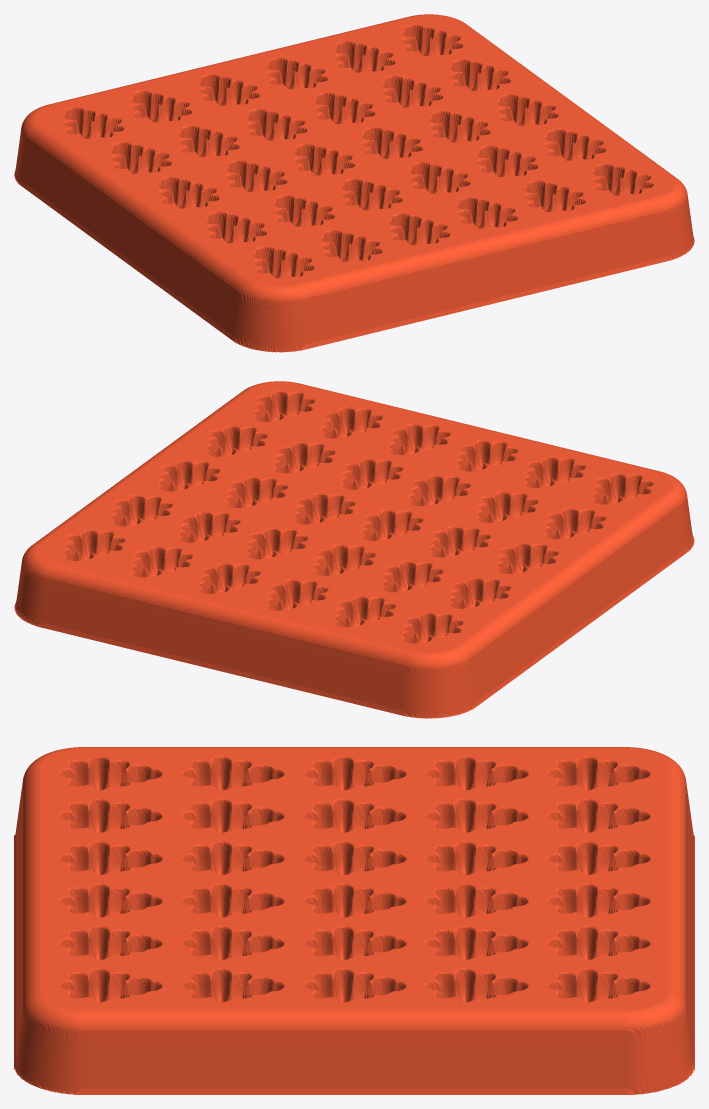
Rendered from mold.glb.
3 renders of one model, top to bottom at view 1: azimuth 30°, elevation 25°; view 2: azimuth 150°, elevation 25°; view 3: azimuth 270°, elevation 25°, orthographic. The views are drawn at different scales.
Parts seen in each view (by area): view 1: geometry_0; view 2: geometry_0; view 3: geometry_0.
Part boxes in pixels (left/top/right/bottom): geometry_0: left=14, top=14, right=694, bottom=352; geometry_0: left=14, top=381, right=694, bottom=718; geometry_0: left=14, top=747, right=694, bottom=1094.
Size of the model in its own units: 0.0872 by 0.0105 by 0.0882.
